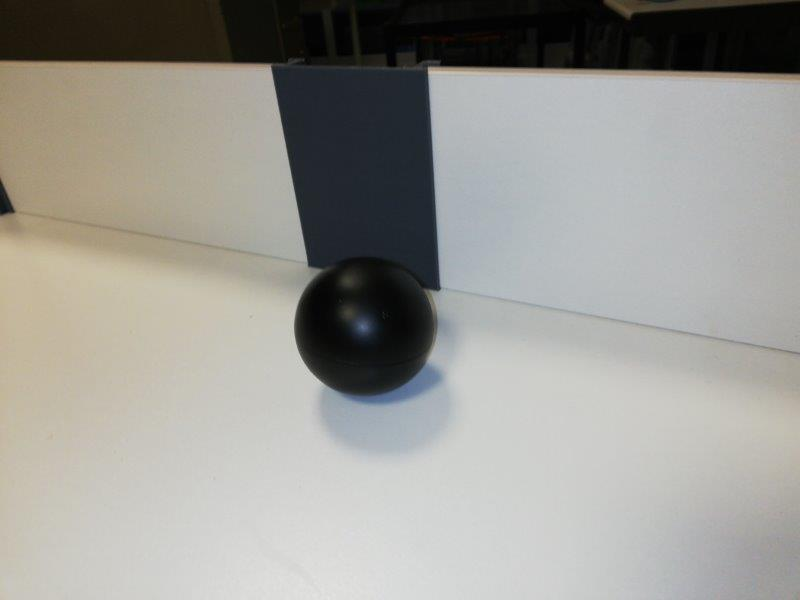nera: (296, 257, 438, 397)
